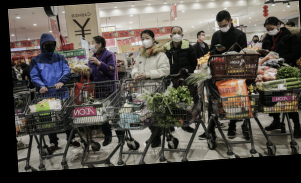with_mask: (140, 35, 153, 50), (264, 25, 280, 37), (217, 23, 231, 35), (171, 30, 183, 44), (44, 40, 56, 53), (89, 39, 98, 54), (198, 33, 207, 42), (252, 37, 259, 44), (16, 66, 21, 71), (130, 54, 134, 59), (13, 66, 17, 70)
